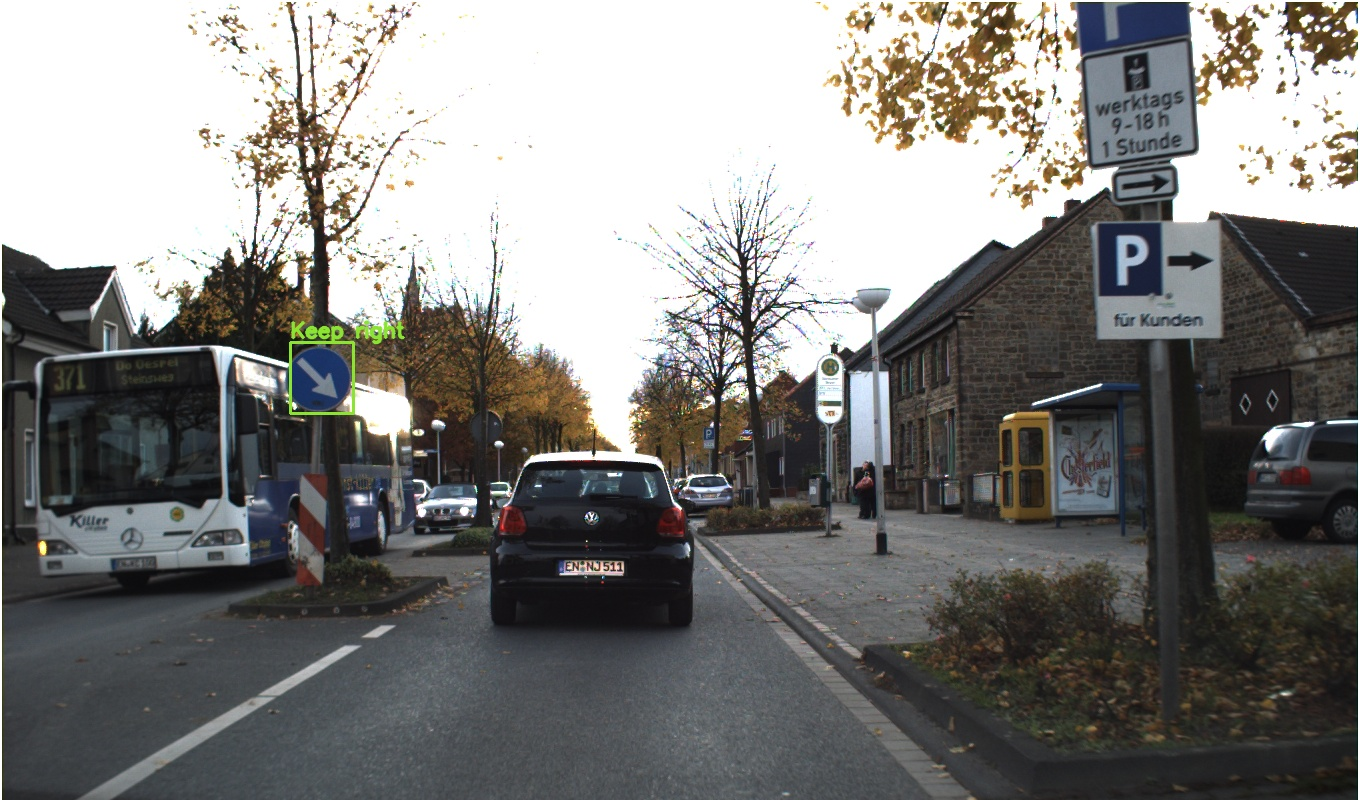Keep right: (330, 523, 351, 545)
Stop: (850, 218, 950, 317)
